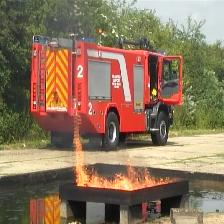fire: (73, 167, 186, 191)
